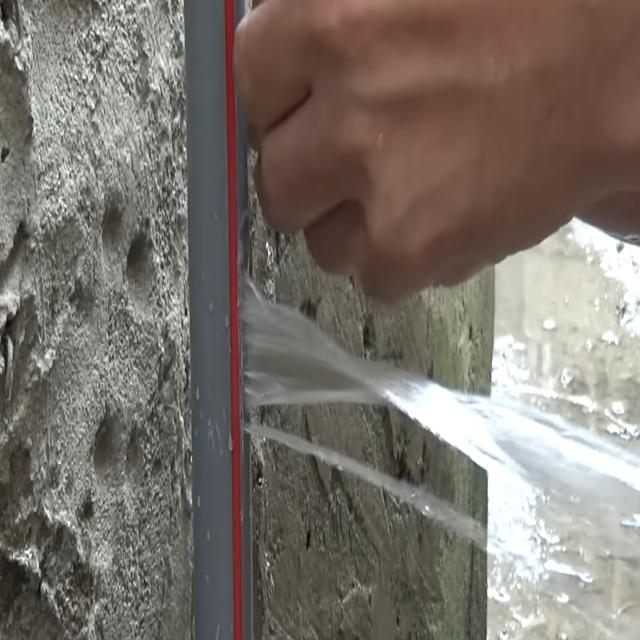leak: (241, 276, 640, 556), (245, 424, 488, 549)
